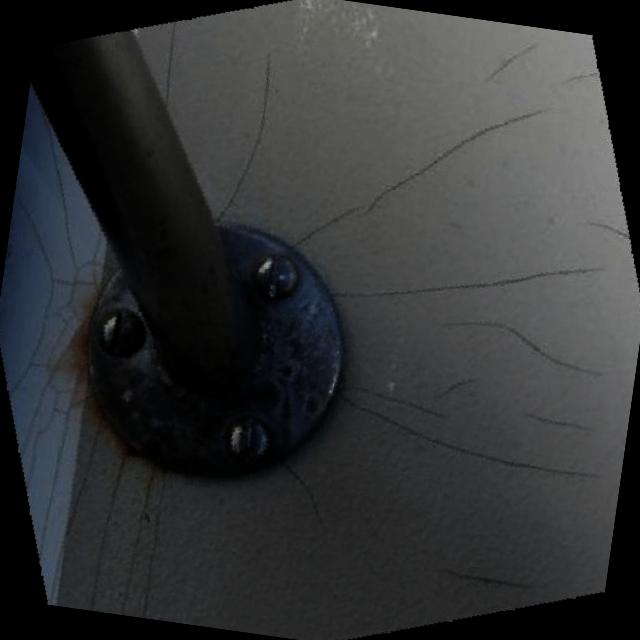crack: (290, 71, 536, 280), (335, 220, 586, 328), (328, 396, 599, 484), (212, 56, 290, 225), (434, 312, 606, 382), (324, 374, 469, 424), (512, 404, 582, 442), (430, 366, 494, 406)
